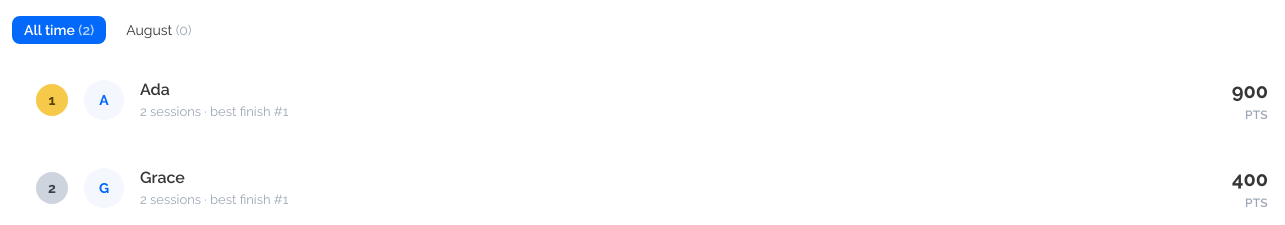
it: ProjectTopPlayers › Explains an empty season instead of implying the project is dead
This screenshot has width=1285, height=225.
Click the tab with test id "top-players-season": [159, 30] box [114,16,203,44]
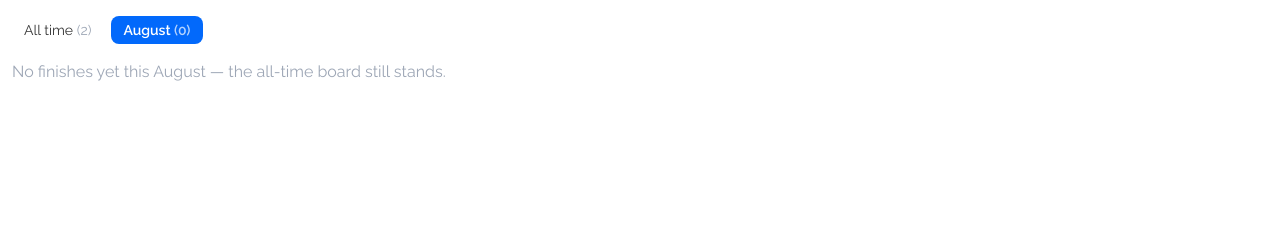
Result: the text with test id "top-players-empty" shows "the all-time board still stands" at [12,62,446,81]
